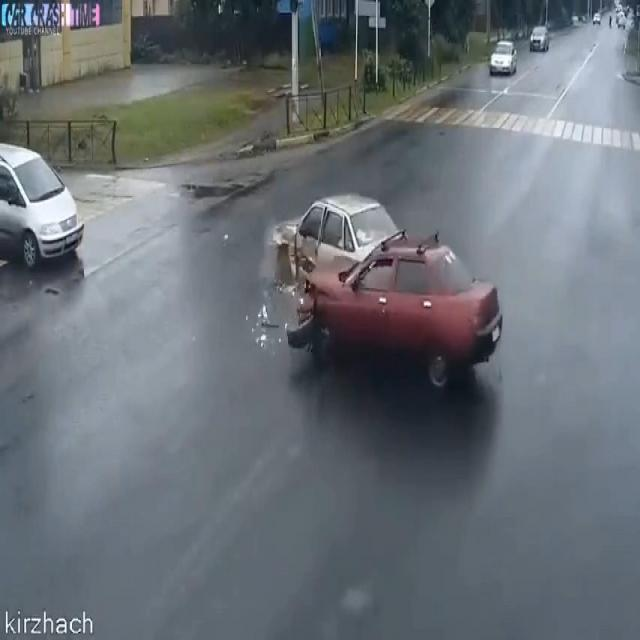Accident: (254, 159, 511, 412)
